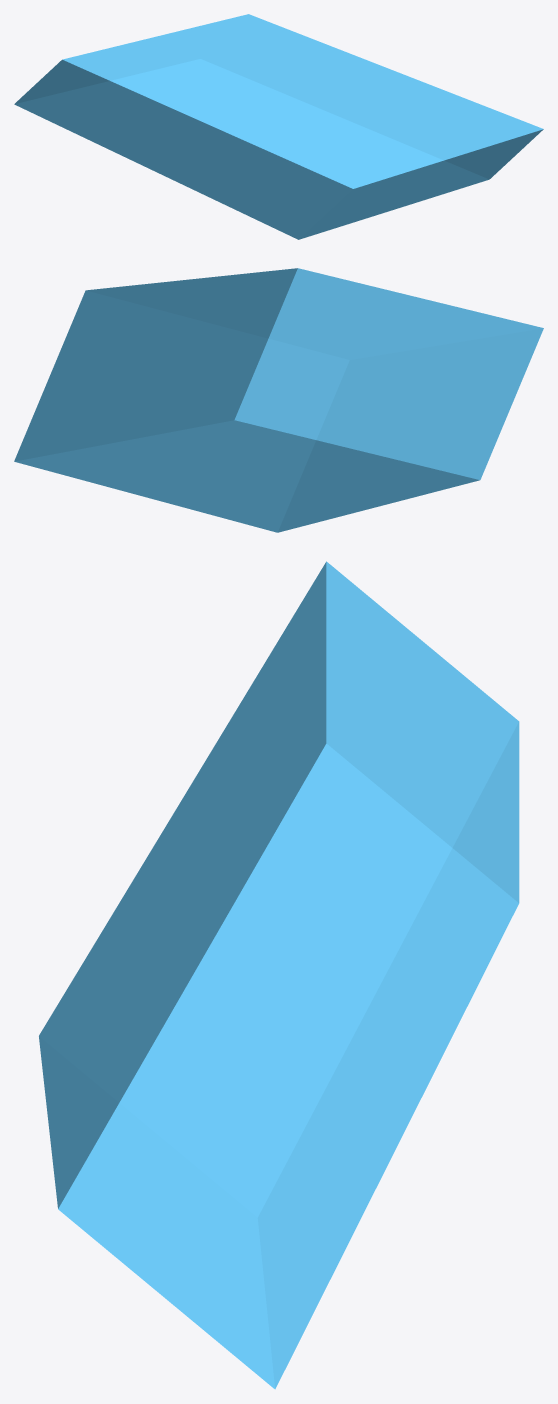
Rendered from Event_421556567_HBrechit_28.fbx.
The picture shows the model from 3 angles, top to bottom: view 1: azimuth 30°, elevation 25°; view 2: azimuth 150°, elevation 25°; view 3: azimuth 270°, elevation 25°; orthographic projection. The views are drawn at different scales.
Parts seen in each view (by area): view 1: Model; view 2: Model; view 3: Model.
Boxes of the visible parts, box(x1,y1,x2,y2) form: Model: box(14, 14, 543, 239); Model: box(14, 268, 543, 532); Model: box(39, 561, 519, 1389).
Bounding box in the file's own units: 1.47 × 0.7502 × 0.7381.
